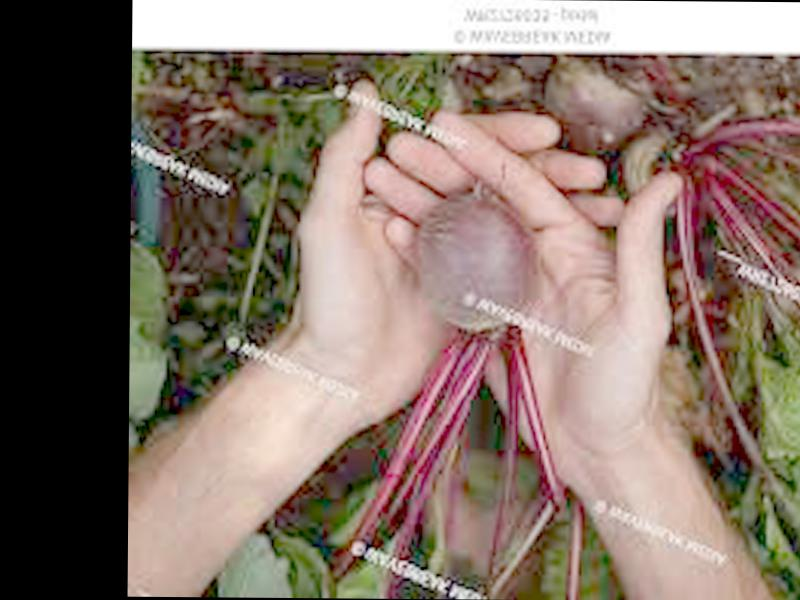Beet: (325, 179, 569, 587)
